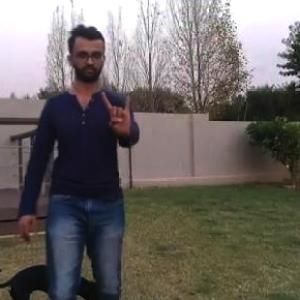takeoff-hand: (95, 84, 140, 138)
